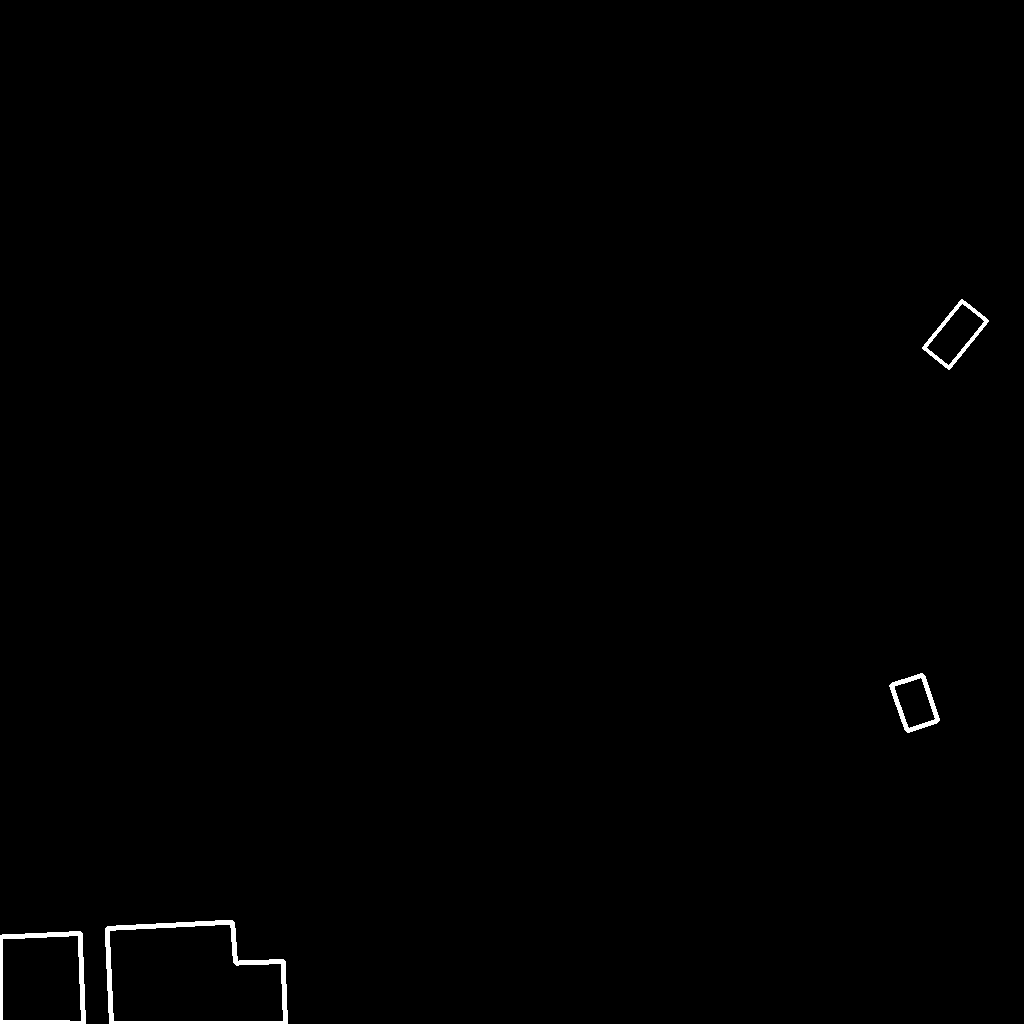building: (107, 922, 287, 1024), (0, 933, 85, 1024), (924, 301, 988, 369), (891, 675, 939, 732)
